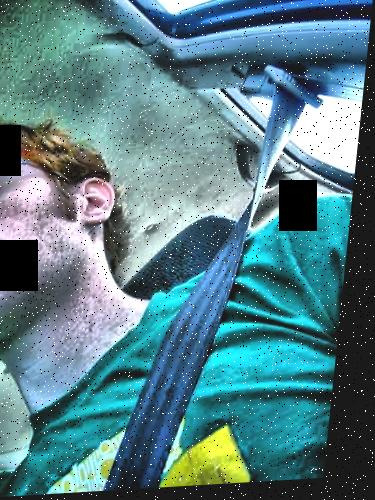seatbelt: (103, 62, 327, 475)
